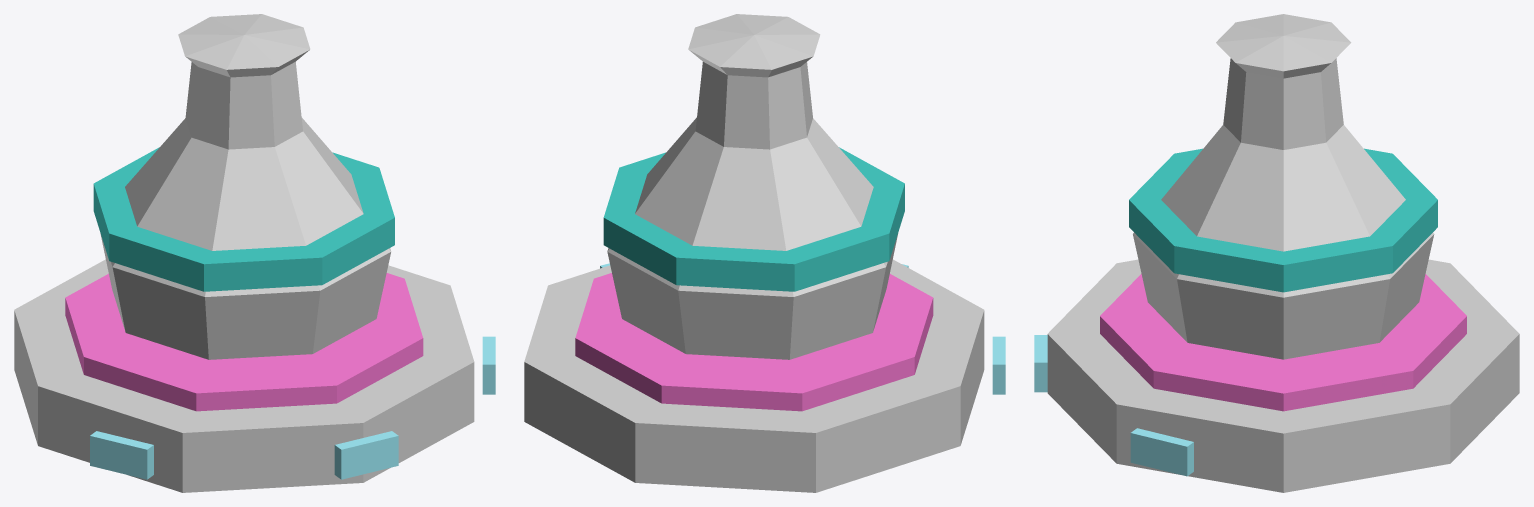
The model's file is lab-g0.glb.
The picture shows the model from 3 angles, left to right: view 1: azimuth 30°, elevation 25°; view 2: azimuth 150°, elevation 25°; view 3: azimuth 270°, elevation 25°; orthographic projection.
Visible parts, largest first — view 1: lab-g0; view 2: lab-g0; view 3: lab-g0.
Part boxes in pixels (x1,y1,x2,y2): lab-g0: (14, 14, 495, 492); lab-g0: (524, 14, 1005, 492); lab-g0: (1034, 14, 1519, 492).
Size of the model in its own units: 0.54 by 0.4511 by 0.555.
